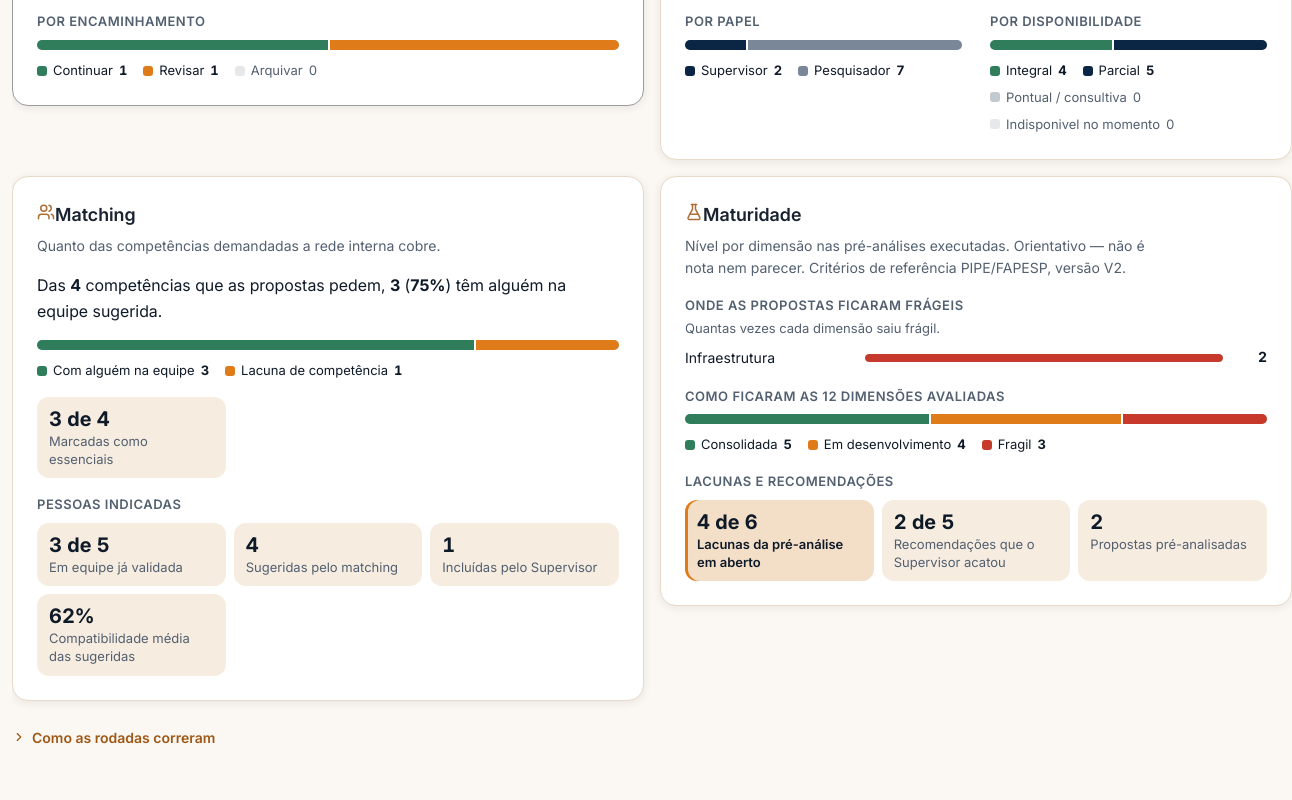
Test: Indicadores de matching e maturidade (PB74, PB75) › o diagnóstico das rodadas fica recolhido, fora dos blocos de resultado
(page scrolled)
Expected: the text "Sem afinidade com o tema" is not shown
Click the button "Como as rodadas correram": [114, 737] box [12, 724, 215, 750]
(page scrolled)
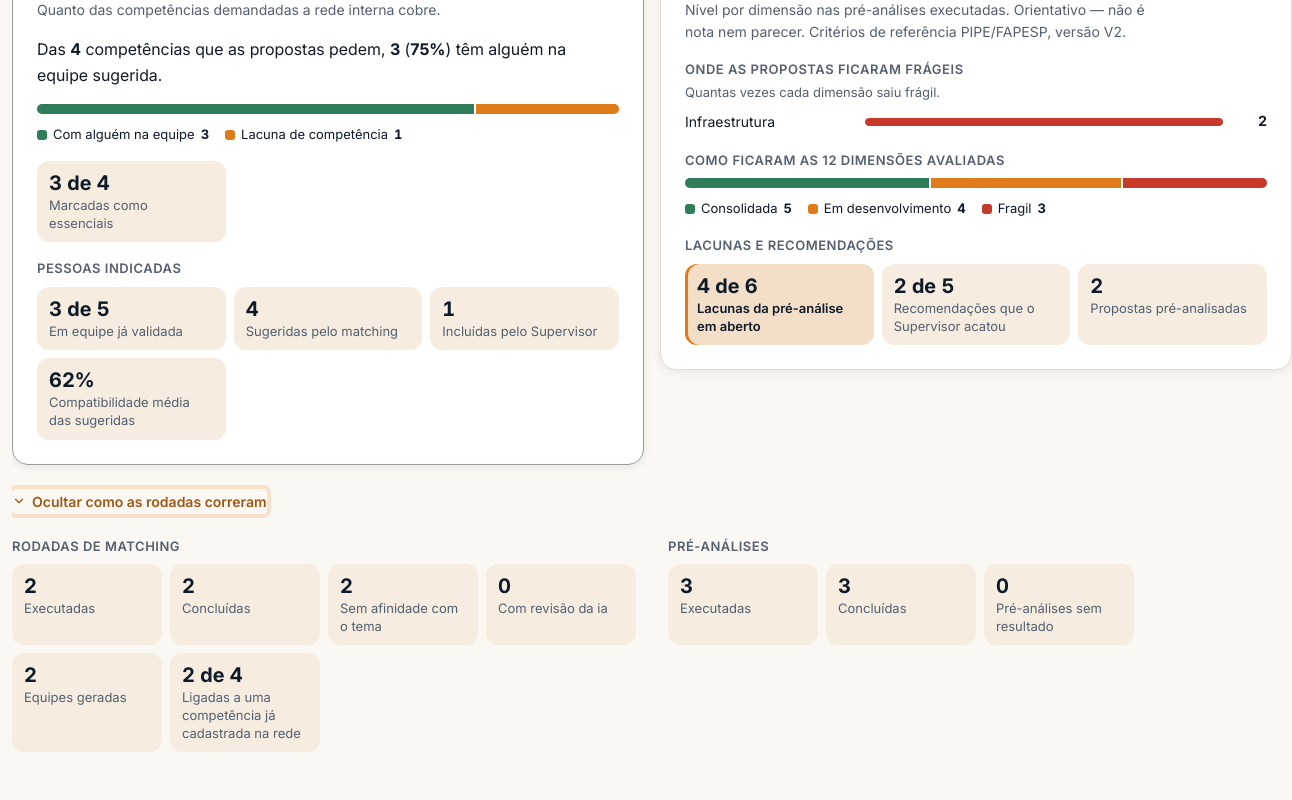
Expected: the text "Sem afinidade com o tema" is shown, [340, 600, 466, 636]
Expected: the text "Pré-análises sem resultado" is shown, [996, 600, 1102, 634]
